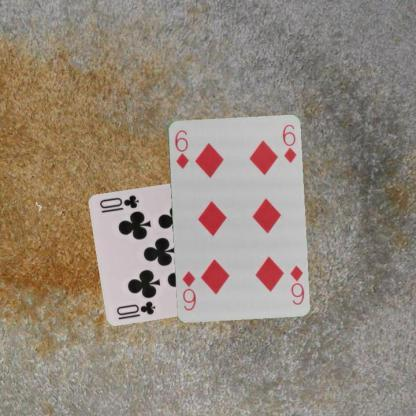10c: (114, 298, 158, 321)
6d: (287, 262, 305, 306), (172, 127, 190, 170)
